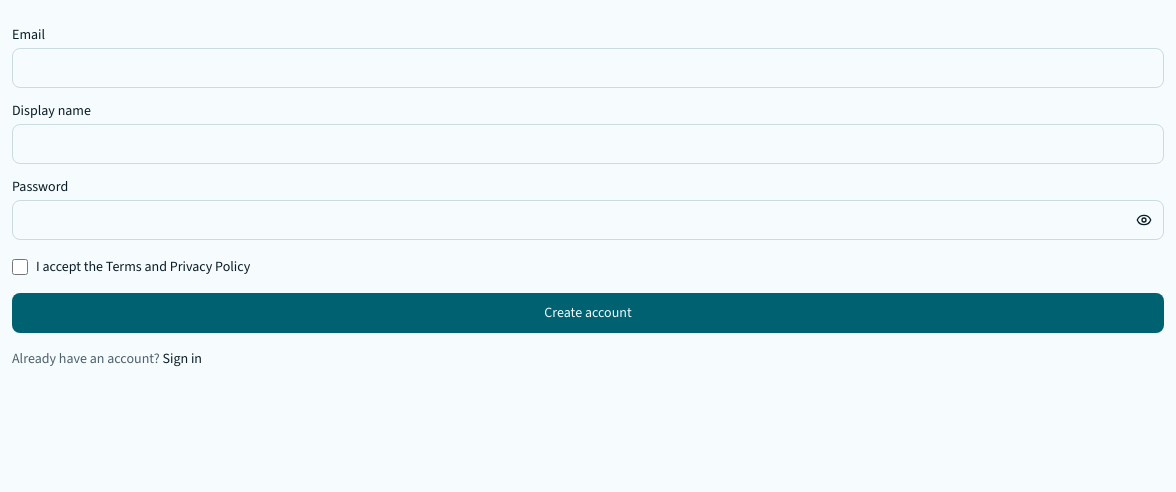
Test: register form › labels every field and announces validation errors
The width and height of the screenshot is (1176, 492).
Expected: the field labelled "Email" is shown, top-left (12, 48), bottom-right (1164, 88)
Expected: the field labelled "Display name" is shown, top-left (12, 124), bottom-right (1164, 164)
Click the button "Create account": coordinates (588, 313) top-left (12, 293), bottom-right (1164, 333)
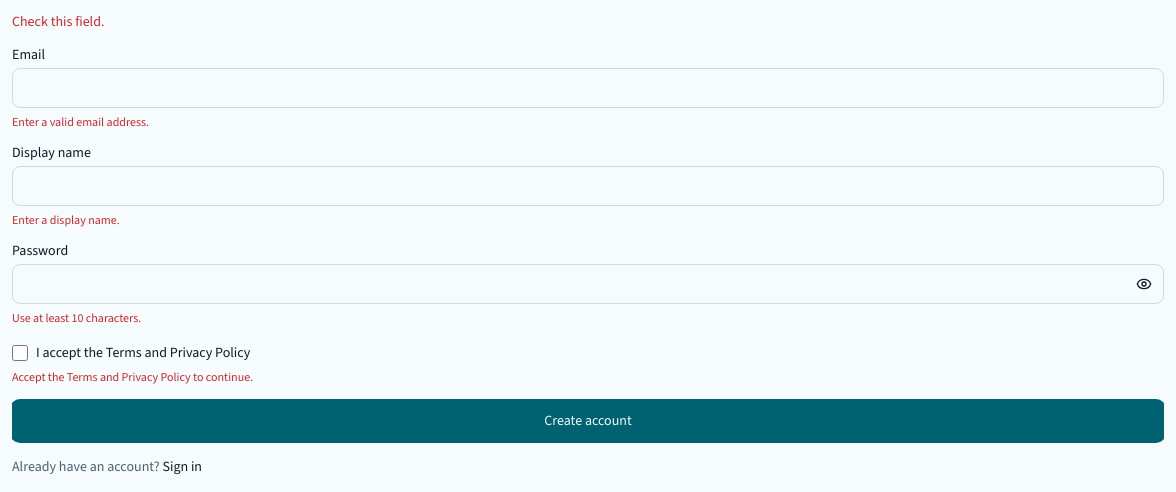
Expected: the text "Enter a valid email address." is shown, top-left (12, 114), bottom-right (149, 130)
Expected: the text "Use at least 10 characters." is shown, top-left (12, 310), bottom-right (141, 326)
Expected: the text "Accept the Terms and Privacy Policy to continue." is shown, top-left (12, 369), bottom-right (253, 385)
